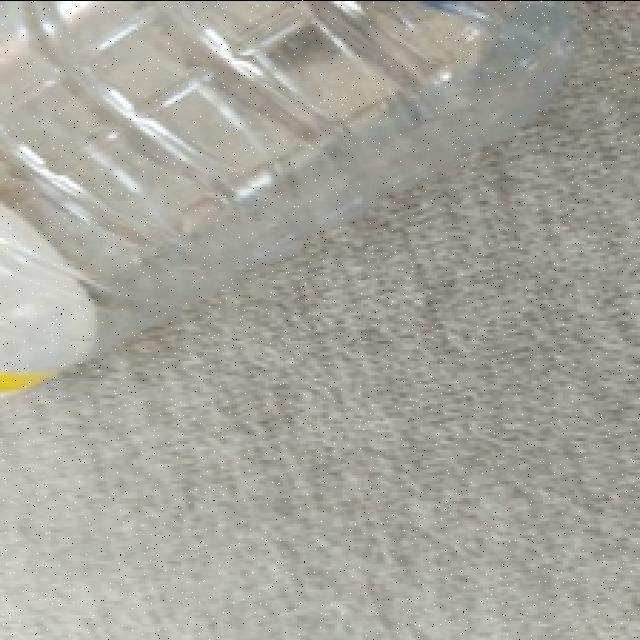plastic: (0, 6, 578, 454)
